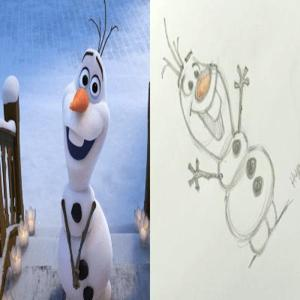olaf: (55, 13, 129, 296)
